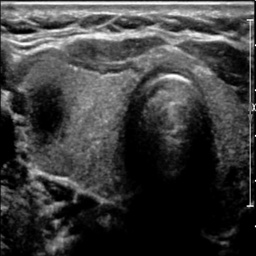mass: (25, 85, 64, 145)
